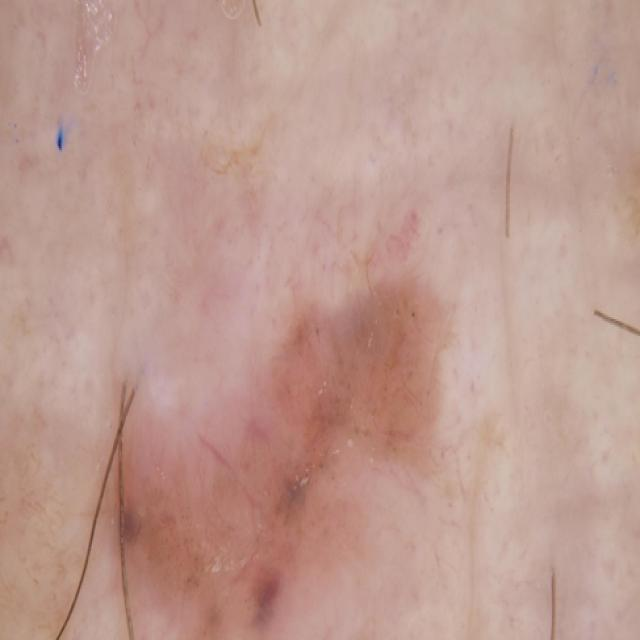Carcinoma: (105, 239, 505, 640)
